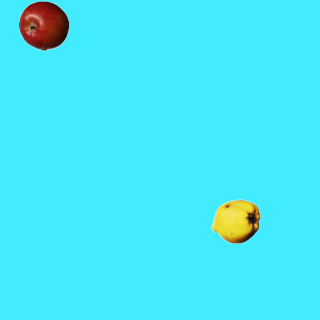Apple Braeburn: (18, 0, 68, 50)
Quince: (210, 196, 260, 246)
